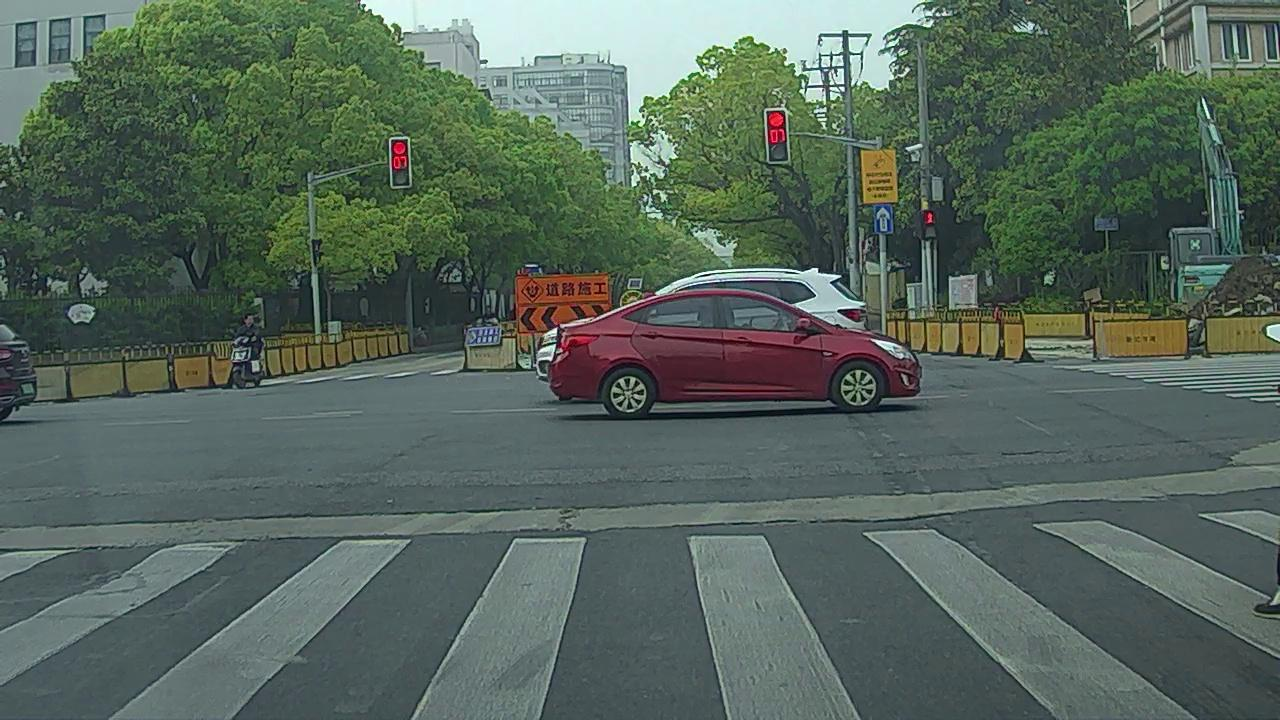traffic_light: (388, 137, 411, 187), (766, 110, 787, 161)
